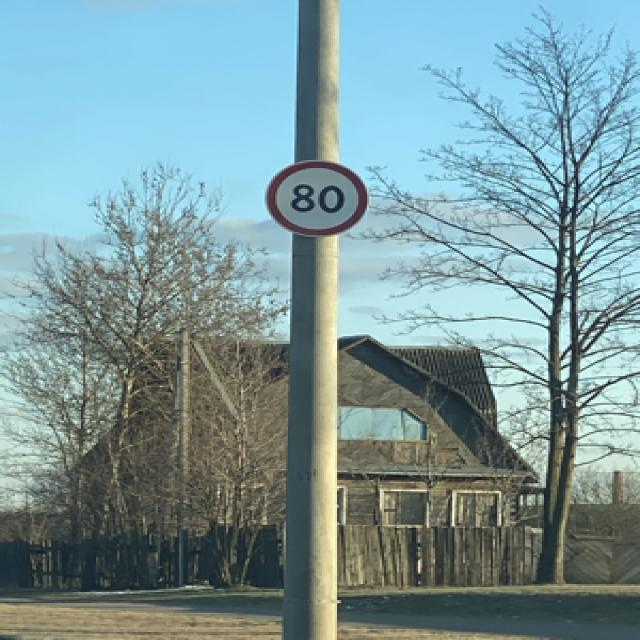speedlimit: (260, 158, 363, 236)
